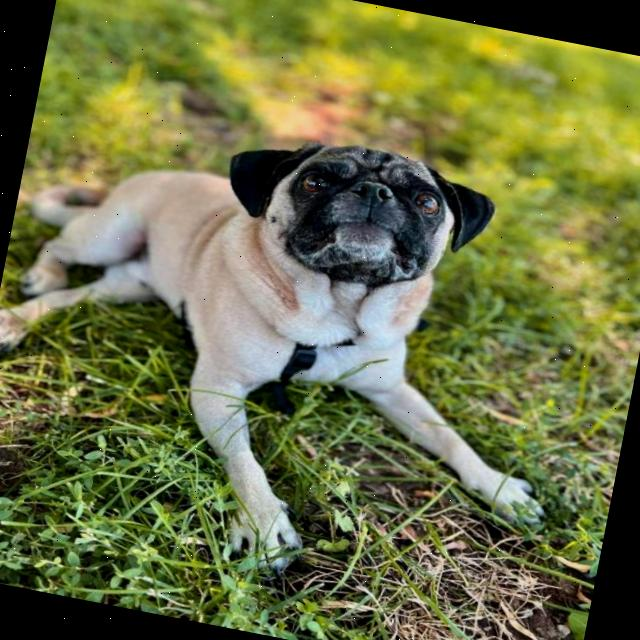pug_dog: (201, 112, 512, 323)
